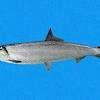Tenpounder: (0, 27, 100, 75)
